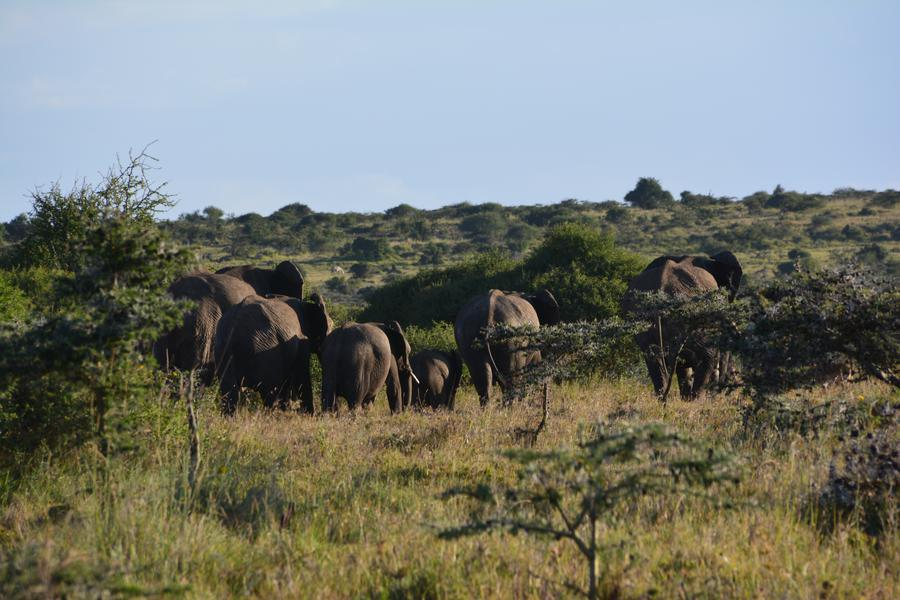elephant: (154, 258, 305, 366), (218, 286, 332, 401), (634, 252, 726, 389), (463, 284, 554, 395), (323, 318, 412, 409)
